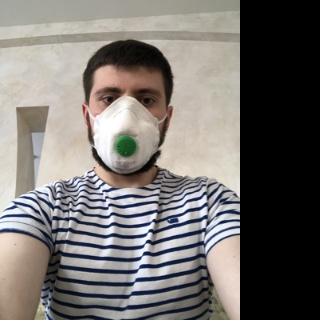with_mask: (89, 74, 164, 175)
